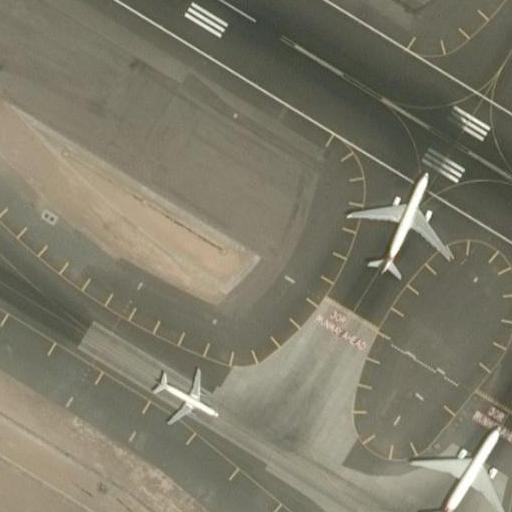Aircraft: (341, 170, 454, 284), (397, 418, 512, 512), (149, 368, 226, 431)
